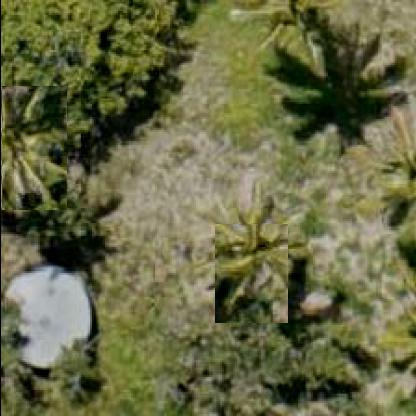coconut tree: (1, 86, 67, 211), (214, 224, 288, 324)
